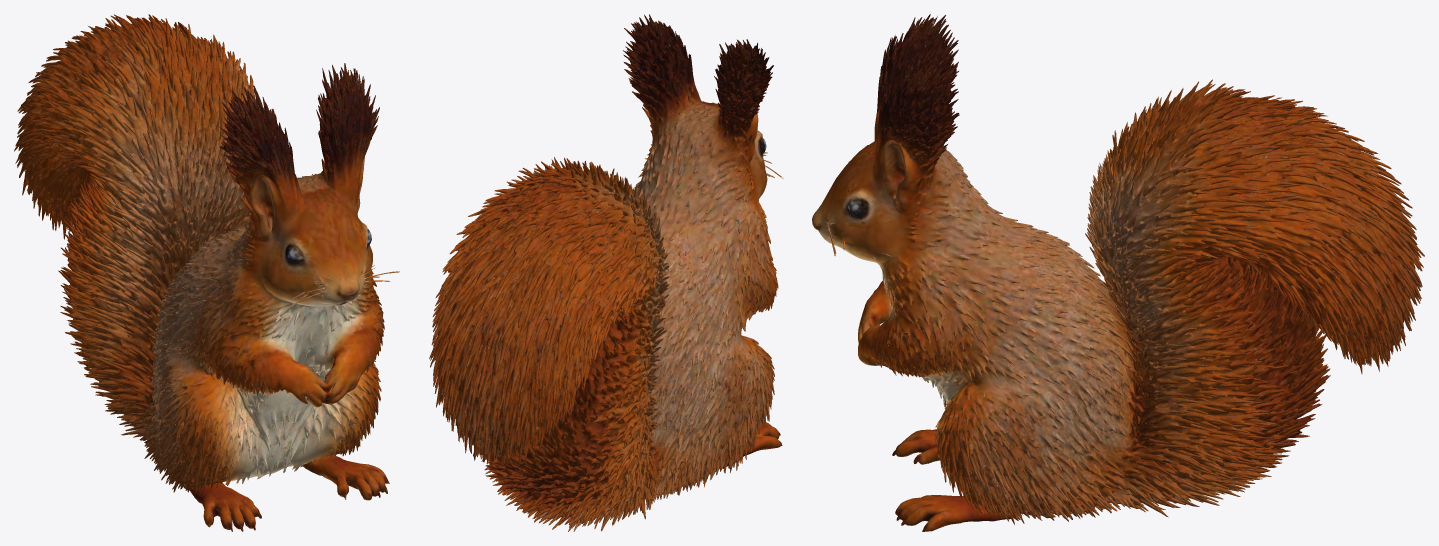
Rendered from squirrel.glb.
The picture shows the model from 3 angles, left to right: view 1: azimuth 30°, elevation 25°; view 2: azimuth 150°, elevation 25°; view 3: azimuth 270°, elevation 25°; orthographic projection. The views are drawn at different scales.
Visible parts, largest first — view 1: squirrel; view 2: squirrel; view 3: squirrel.
Boxes of the visible parts, <box> form: squirrel: <box>14,14,399,531</box>; squirrel: <box>429,14,783,531</box>; squirrel: <box>812,14,1424,531</box>.
Bounding box in the file's own units: 0.1538 × 0.2969 × 0.3707.
Materials: 1 (1 with a texture image).
